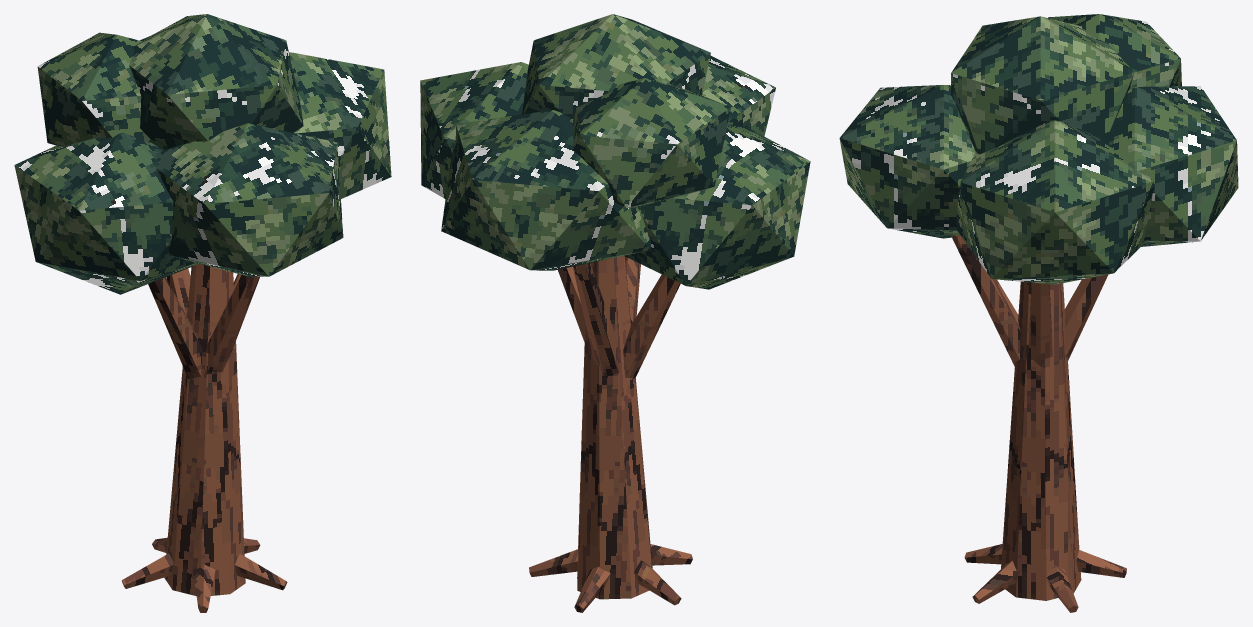
Rendered from arvore.fbx.
The picture shows the model from 3 angles, left to right: view 1: azimuth 30°, elevation 25°; view 2: azimuth 150°, elevation 25°; view 3: azimuth 270°, elevation 25°; orthographic projection.
Visible parts, largest first — view 1: bosque_arvore; view 2: bosque_arvore; view 3: bosque_arvore.
Boxes of the visible parts, x1,y1,x2,y2 form: bosque_arvore: [14, 14, 391, 612]; bosque_arvore: [420, 14, 810, 612]; bosque_arvore: [839, 14, 1238, 612].
Bounding box in the file's own units: 142 × 213 × 136.
Materials: 2 (2 with a texture image).
